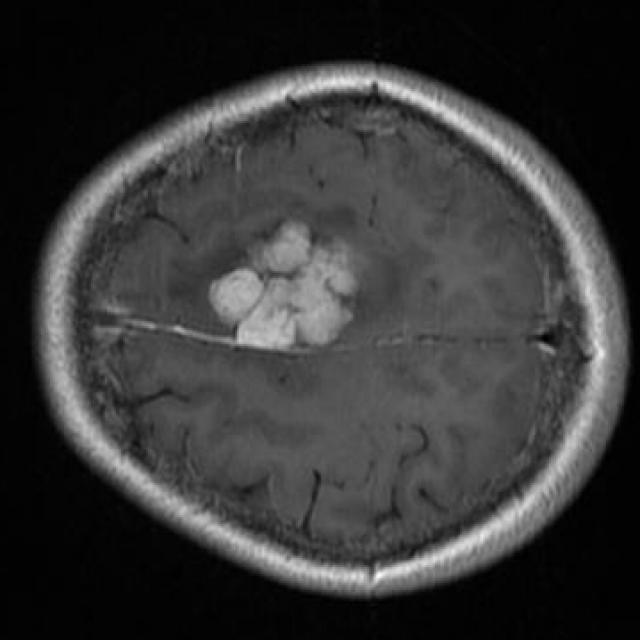meningioma: (209, 221, 355, 346)
